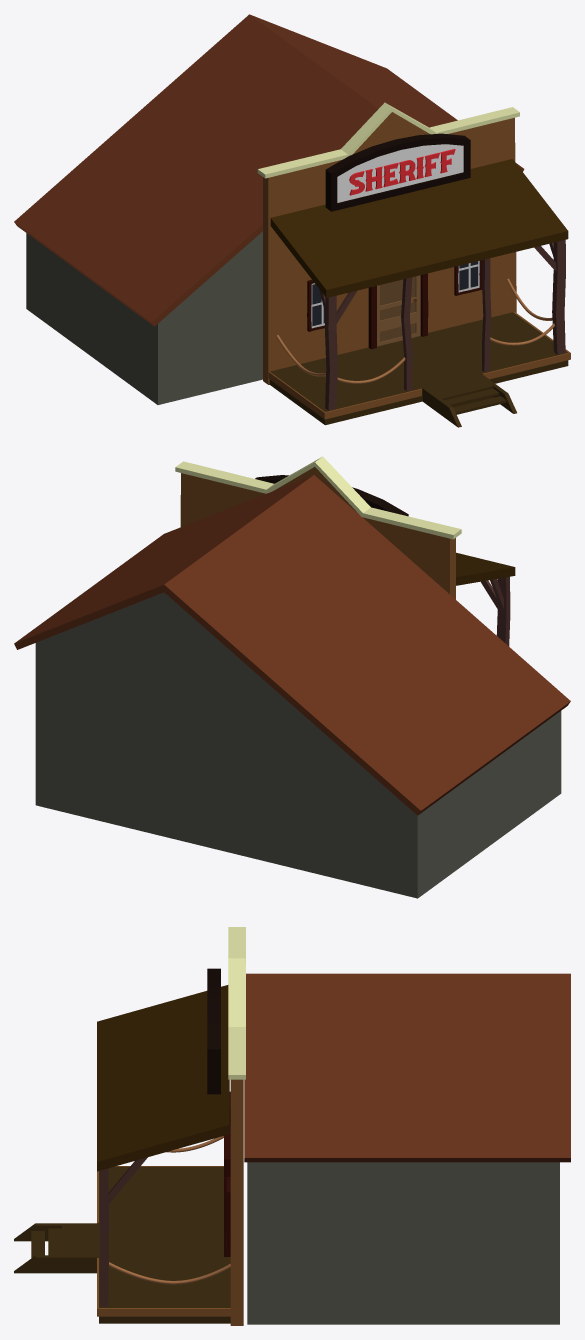
The model's file is Sheriff.fbx.
3 views of the same model, one above another, from view 1: azimuth 30°, elevation 25°; view 2: azimuth 150°, elevation 25°; view 3: azimuth 270°, elevation 25° (orthographic). The views are drawn at different scales.
Visible parts, largest first — view 1: General_Store; view 2: General_Store; view 3: General_Store.
Part boxes in pixels (x1,y1,x2,y2): General_Store: (14, 14, 570, 427); General_Store: (14, 456, 570, 898); General_Store: (14, 927, 570, 1325).
Size of the model in its own units: 1164 by 740 by 1267.
